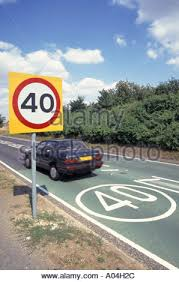Speed_limit_40km: (12, 78, 61, 130)
